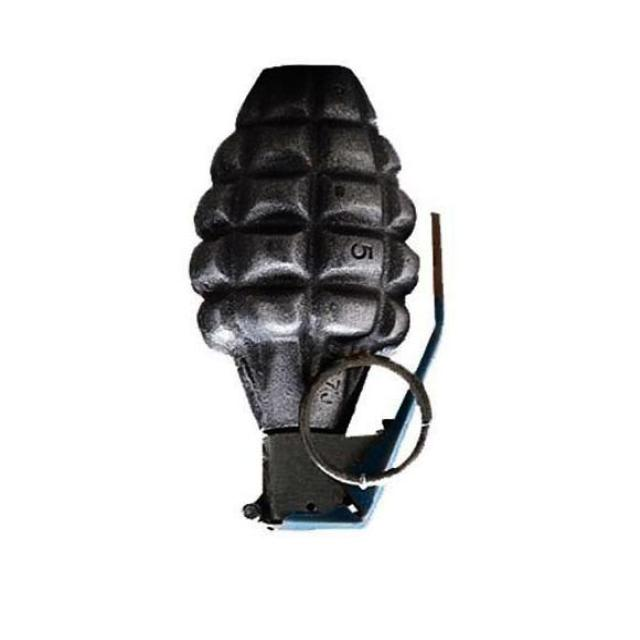grenade: (190, 64, 446, 532)
